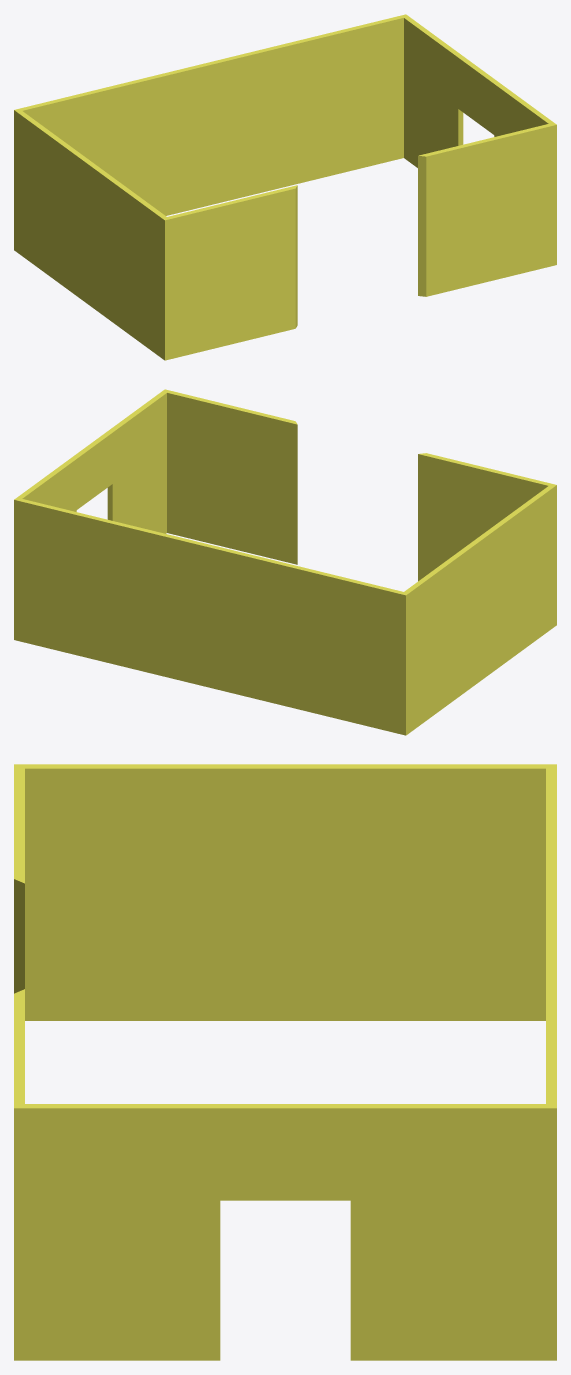
File: Room.fbx
3 views of the same model, one above another, from view 1: azimuth 30°, elevation 25°; view 2: azimuth 150°, elevation 25°; view 3: azimuth 270°, elevation 25° (orthographic). The views are drawn at different scales.
Parts seen in each view (by area): view 1: RoomWalls; view 2: RoomWalls; view 3: RoomWalls.
Boxes of the visible parts, <box> form: RoomWalls: <box>14,14,556,360</box>; RoomWalls: <box>14,389,556,735</box>; RoomWalls: <box>14,764,556,1360</box>.
Bounding box in the file's own units: 750 × 256 × 500.
